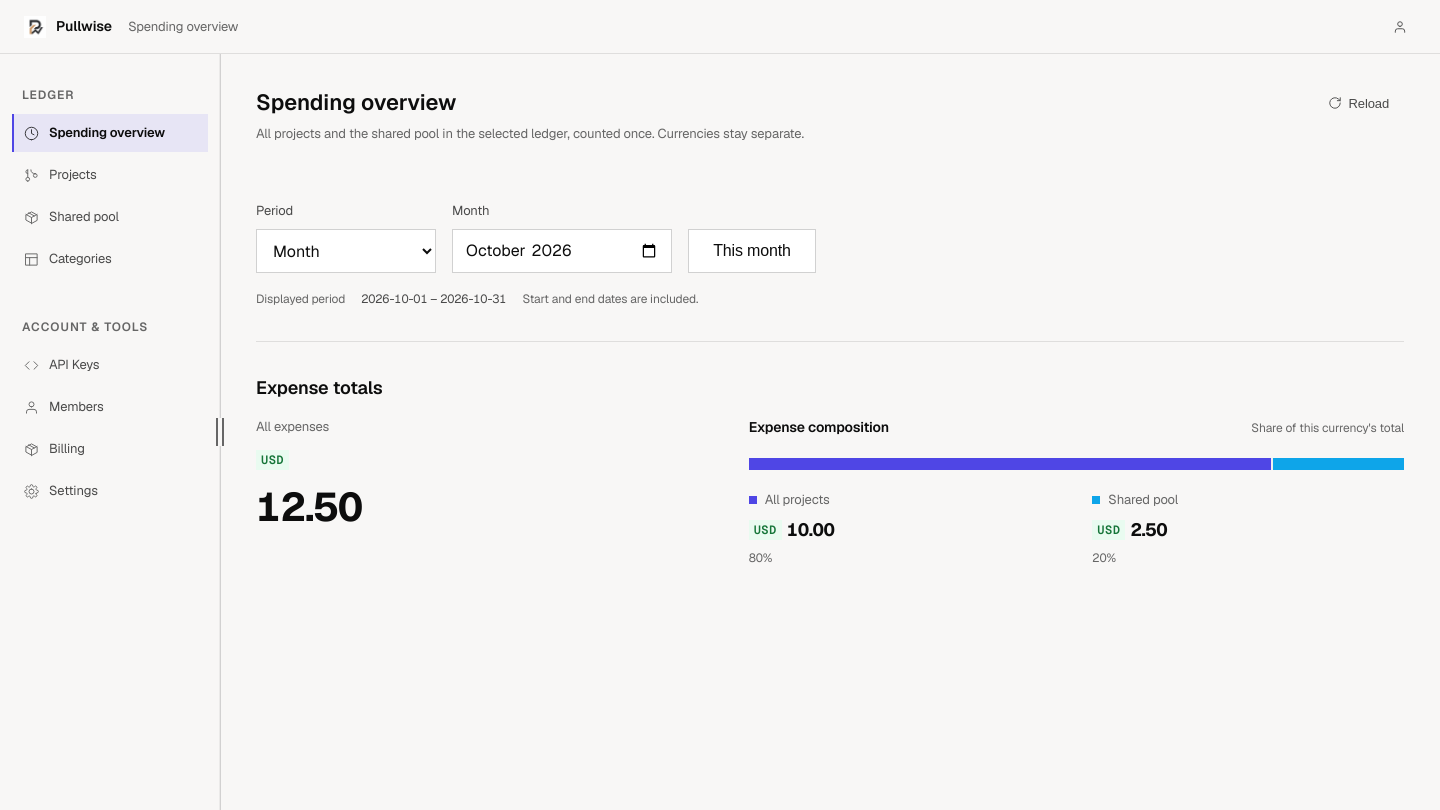
Spending overview › drops protected totals after a current permission failure
The image size is (1440, 810).
Expected: the heading "Expense totals" is shown, [256,374,383,401]
Replace the text in the field labelled "Month" with "2026-09" at (562, 251), box [452,229,672,273]
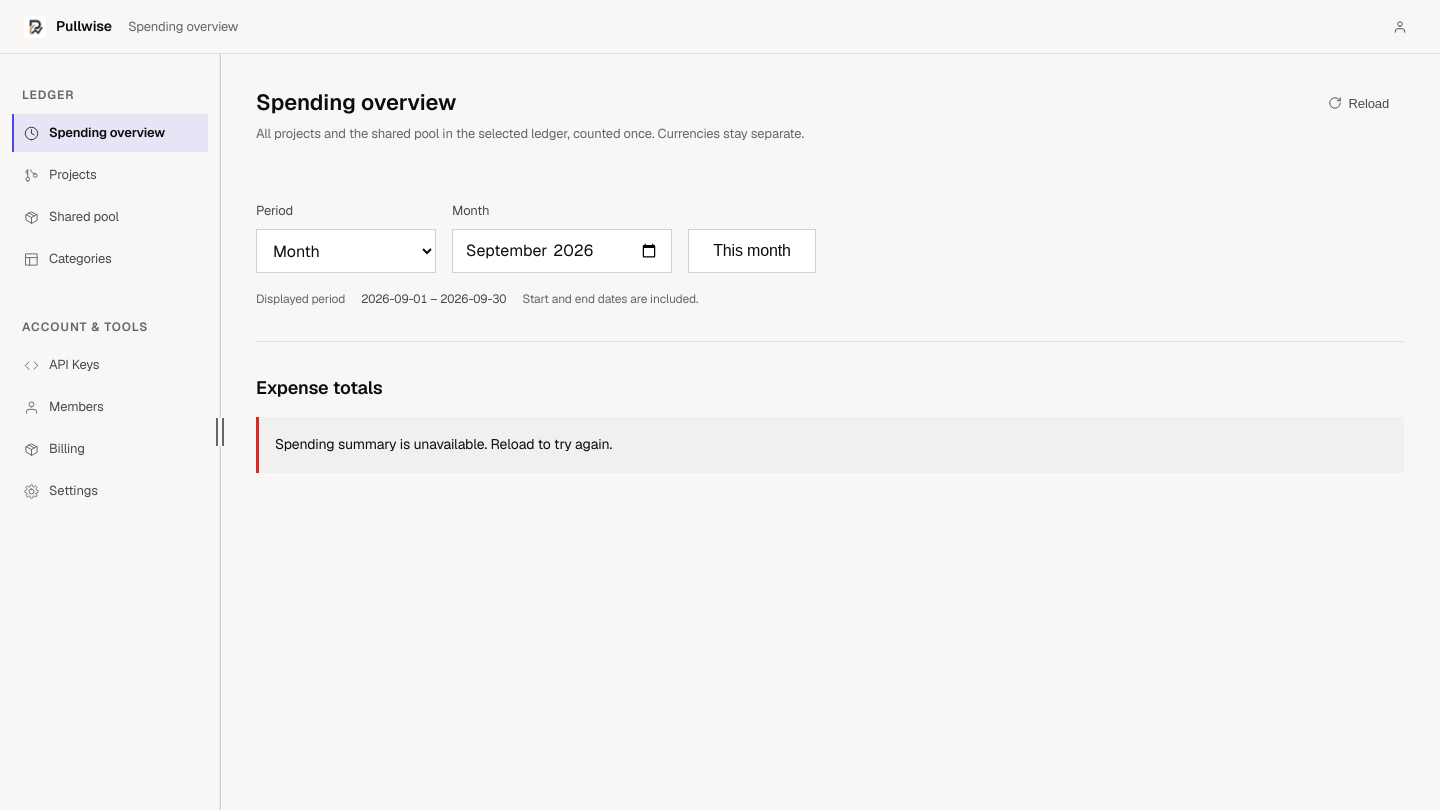
Now the element with class "financial-value" is gone
Now the message shows "Spending summary is unavailable", box [275,435,612,453]
